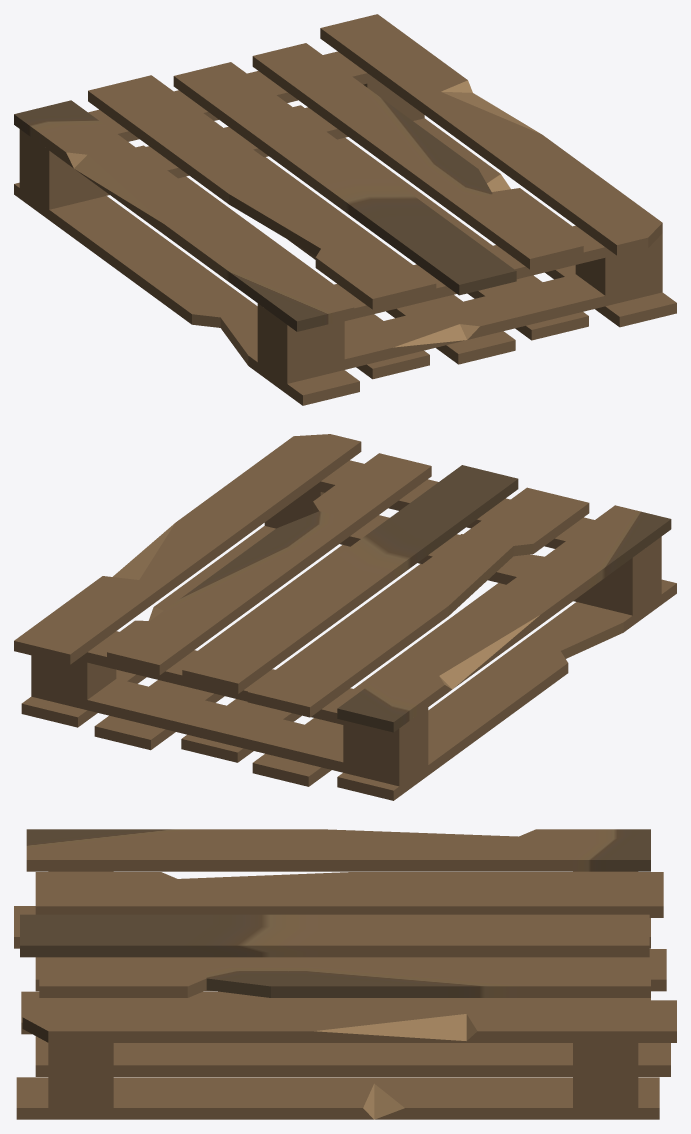
File: SM_Wooden_Pallet_A.fbx
3 renders of one model, top to bottom at view 1: azimuth 30°, elevation 25°; view 2: azimuth 150°, elevation 25°; view 3: azimuth 270°, elevation 25°, orthographic. The views are drawn at different scales.
Visible parts, largest first — view 1: SM_Wooden_Pallet_A; view 2: SM_Wooden_Pallet_A; view 3: SM_Wooden_Pallet_A.
Part boxes in pixels (box(x1,y1,x2,y2)): SM_Wooden_Pallet_A: box(14, 14, 676, 405); SM_Wooden_Pallet_A: box(14, 434, 676, 800); SM_Wooden_Pallet_A: box(14, 829, 676, 1119).
Bounding box in the file's own units: 112 × 22.84 × 155.
